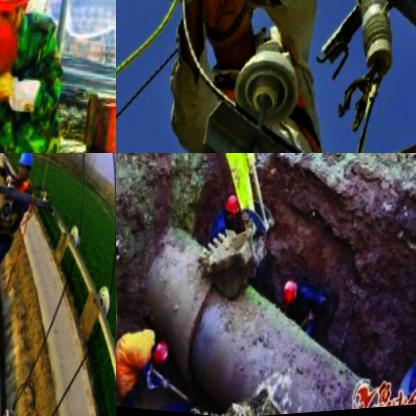helmet: (177, 0, 268, 45), (0, 0, 41, 47), (274, 277, 302, 313), (10, 153, 37, 189), (146, 337, 170, 370), (219, 194, 241, 229)
